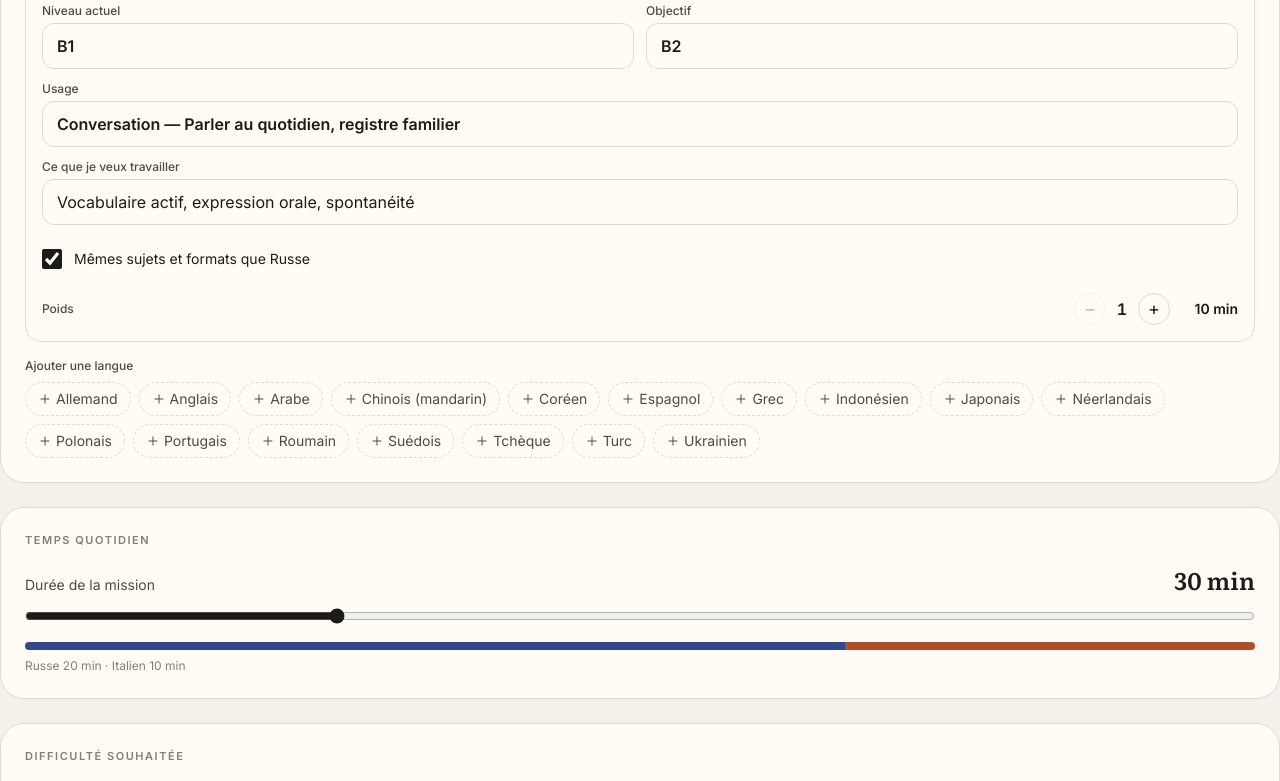
PreferencesForm › adds a third language and splits time across all of them
The width and height of the screenshot is (1280, 781).
(page scrolled)
Click the button "Espagnol" at (661, 398), box [608,382,713,416]
(page scrolled)
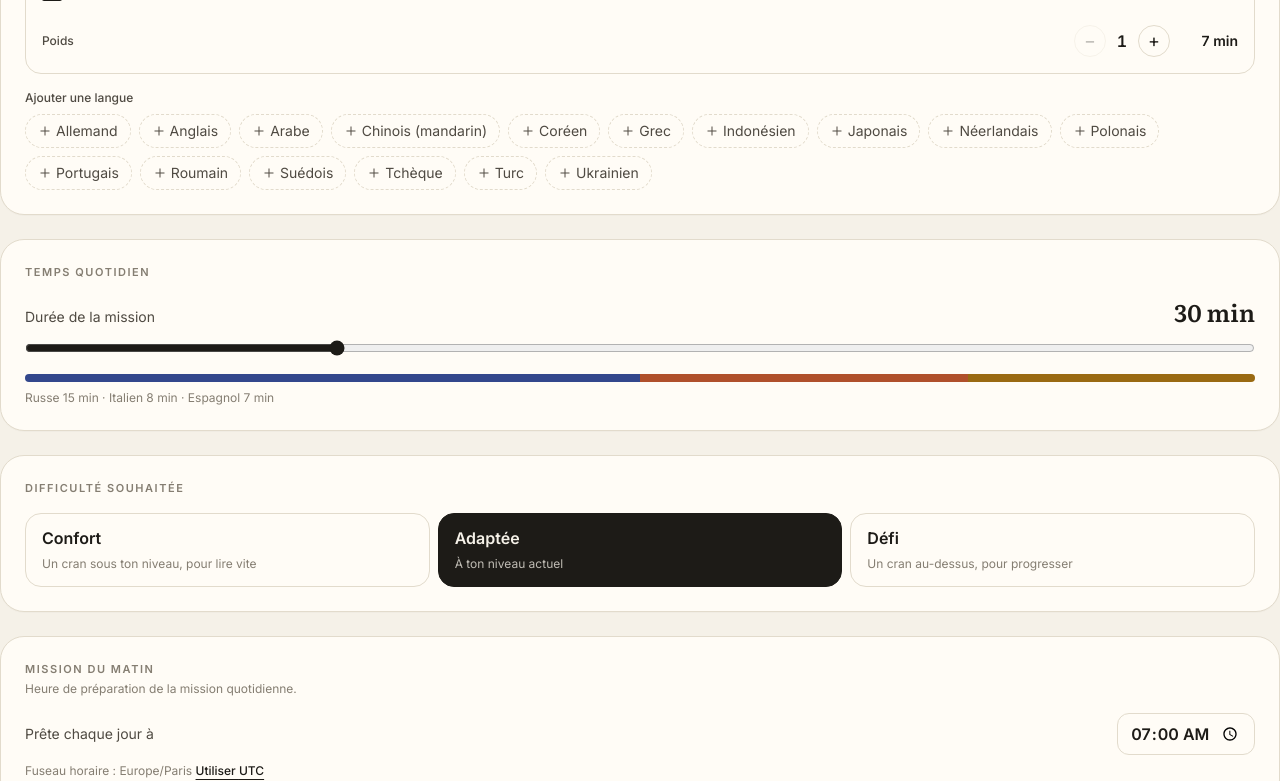
Check: the text "Russe 15 min · Italien 8 min · Espagnol 7 min" is shown, box [25,390,274,405]
